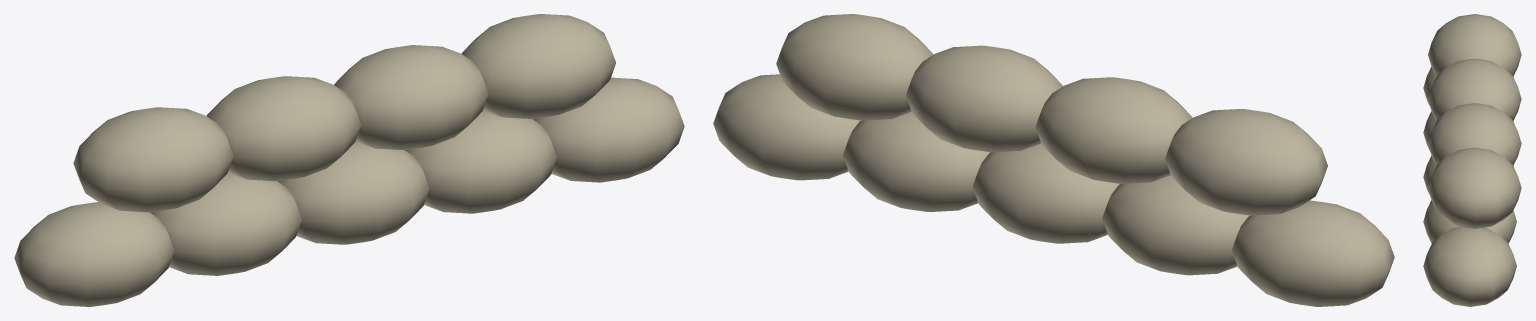
File: sandbags.glb
3 renders of one model, left to right at view 1: azimuth 30°, elevation 25°; view 2: azimuth 150°, elevation 25°; view 3: azimuth 270°, elevation 25°, orthographic. The views are drawn at different scales.
Visible parts, largest first — view 1: sandbags_Palette; view 2: sandbags_Palette; view 3: sandbags_Palette.
Part boxes in pixels (x1,y1,x2,y2): sandbags_Palette: (14, 14, 684, 306); sandbags_Palette: (713, 14, 1394, 306); sandbags_Palette: (1423, 14, 1521, 306).
Bounding box in the file's own units: 2.32 × 0.56 × 0.42.
